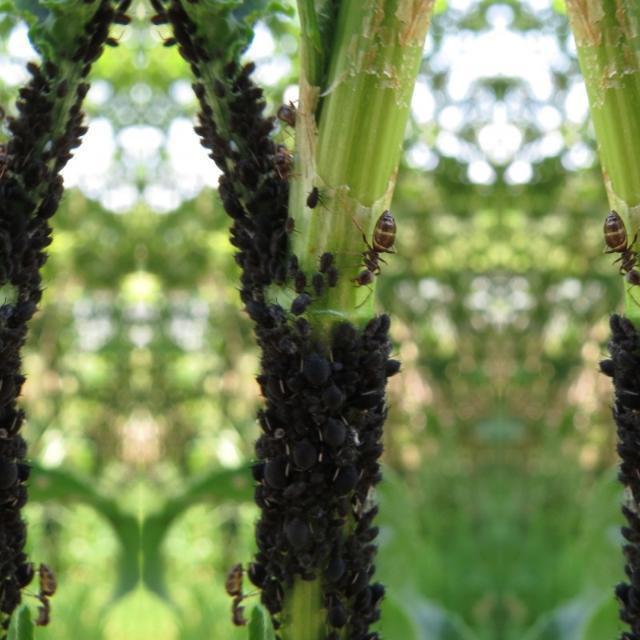Myrmica: (354, 198, 404, 298), (592, 198, 640, 296)
